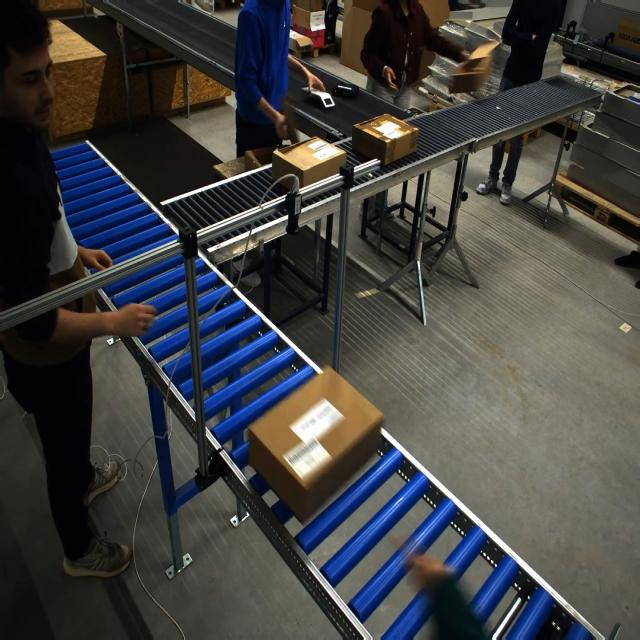box: (245, 366, 371, 513), (272, 137, 340, 192), (352, 114, 413, 167)
